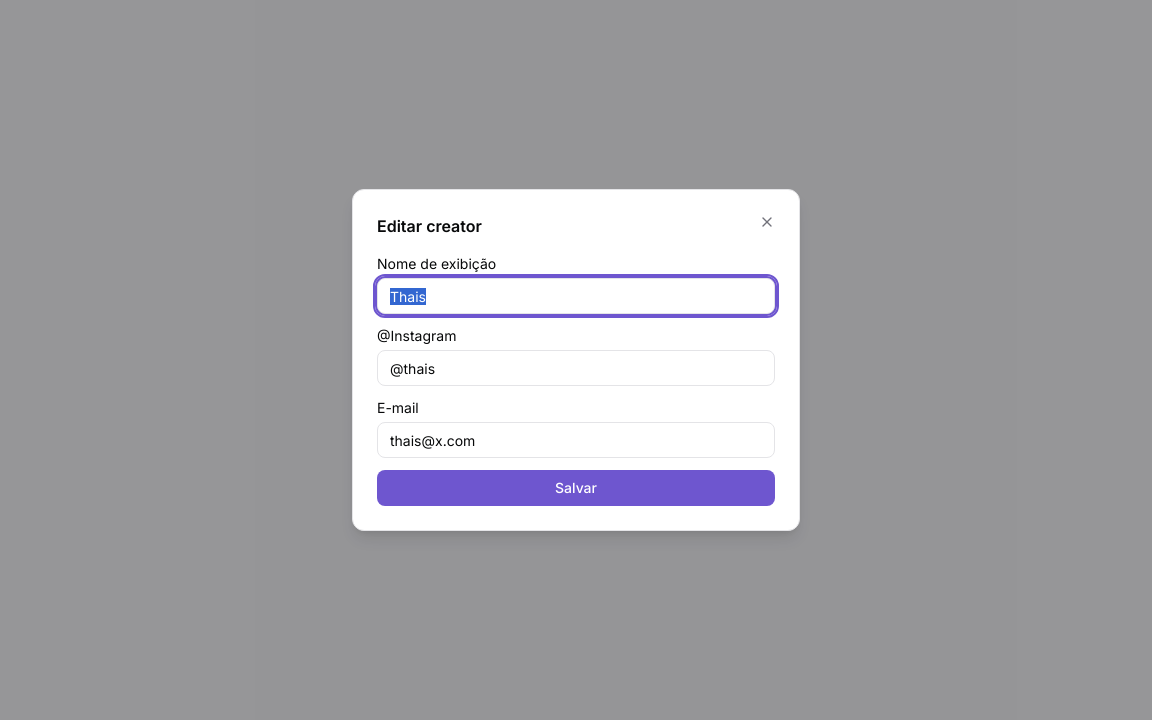
Test: CreatorFormDialog › edit: a 409 on e-mail conflict appears under E-mail
Replace the text in the field labelled "E-mail" with "novo@x.com" at x=576, y=440, box [377,422,775,458]
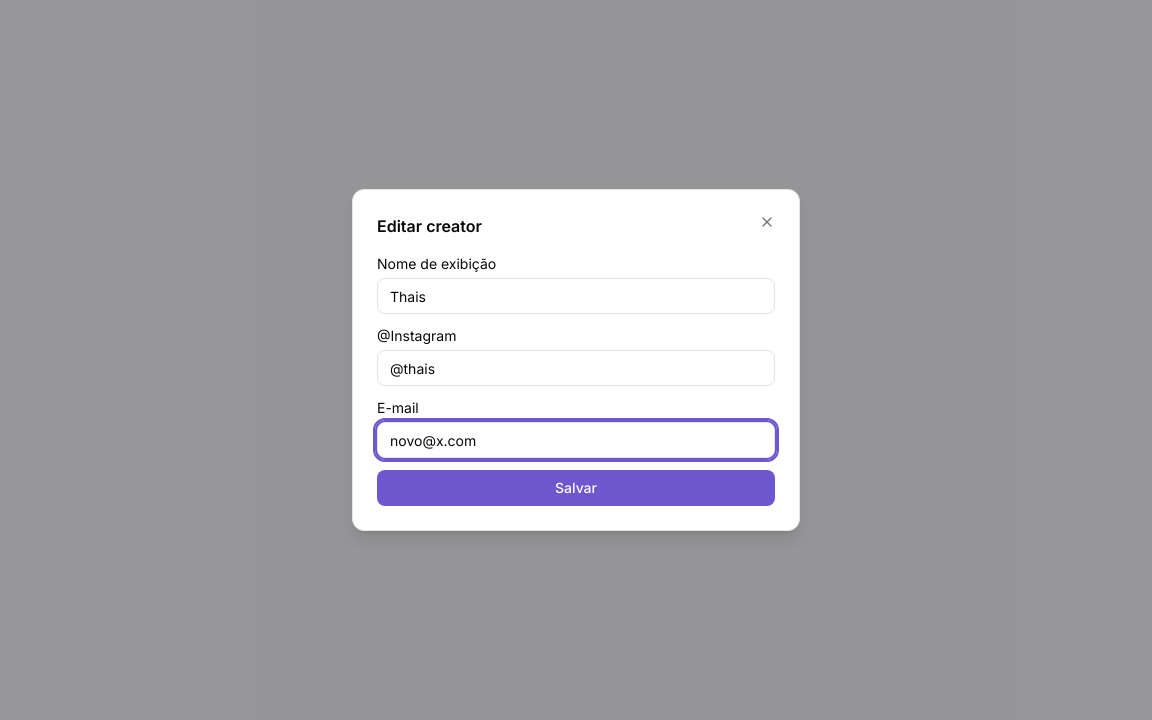
Click the button "Salvar".
click(576, 488)  # box [377,470,775,506]
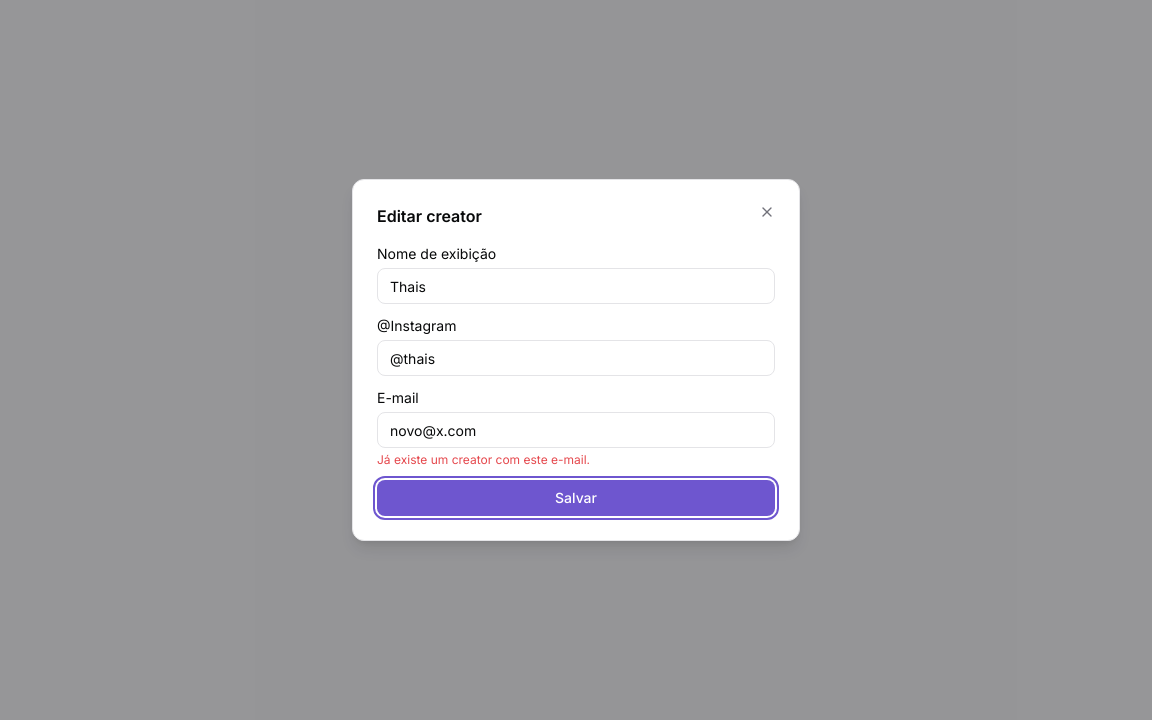
Expected: the text "Já existe um creator com este e-mail." is shown, [377,452,590,467]
